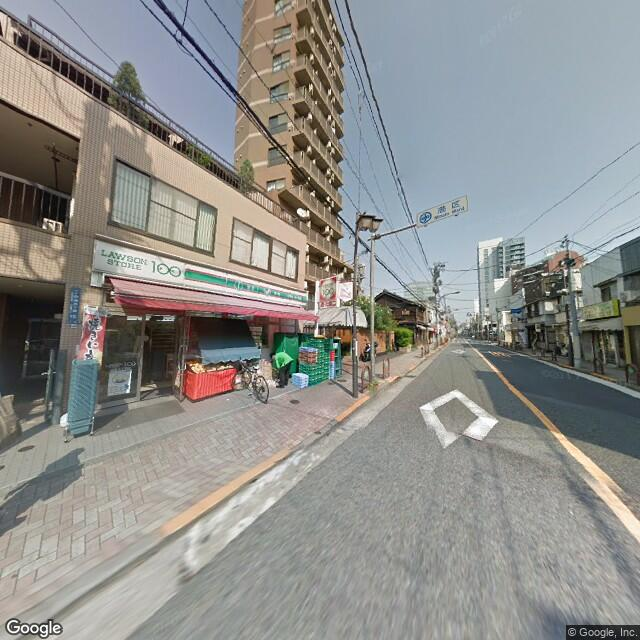lawson: (92, 238, 306, 307)
